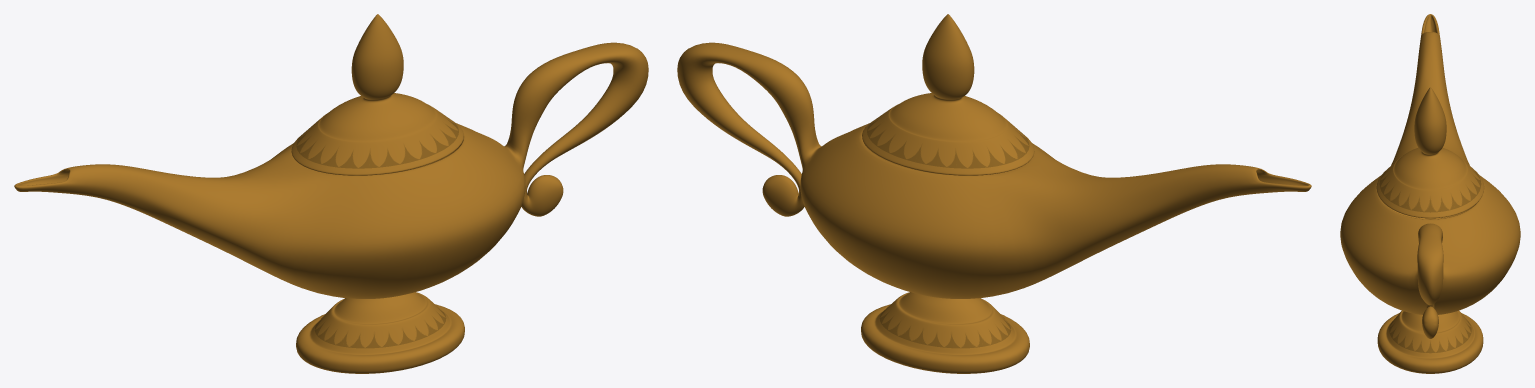
The model's file is alladins_lamp.glb.
3 renders of one model, left to right at view 1: azimuth 30°, elevation 25°; view 2: azimuth 150°, elevation 25°; view 3: azimuth 270°, elevation 25°, orthographic. The views are drawn at different scales.
Visible parts, largest first — view 1: Lamp.Bottom, Lamp.Lid; view 2: Lamp.Bottom, Lamp.Lid; view 3: Lamp.Bottom, Lamp.Lid.
Boxes of the visible parts, x1=… form: Lamp.Bottom: x1=14, y1=42, x2=648, y2=373; Lamp.Lid: x1=291, y1=14, x2=463, y2=175; Lamp.Bottom: x1=677, y1=42, x2=1311, y2=373; Lamp.Lid: x1=862, y1=14, x2=1034, y2=175; Lamp.Bottom: x1=1340, y1=14, x2=1520, y2=373; Lamp.Lid: x1=1376, y1=87, x2=1484, y2=218.
Size of the model in its own units: 0.5791 by 0.2904 by 0.1835.
Materials: 1 (1 with a texture image).
